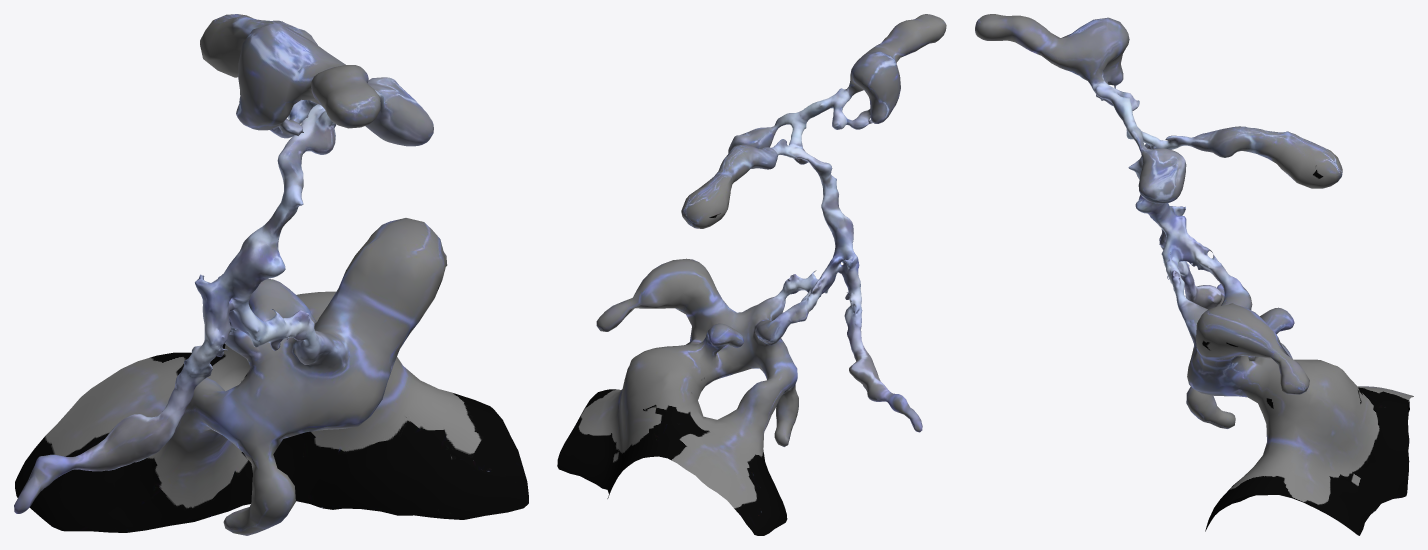
Rendered from lightning_a.glb.
3 renders of one model, left to right at view 1: azimuth 30°, elevation 25°; view 2: azimuth 150°, elevation 25°; view 3: azimuth 270°, elevation 25°, orthographic. The views are drawn at different scales.
Visible parts, largest first — view 1: world; view 2: world; view 3: world.
Part boxes in pixels (<box>): world: <box>14,14,528,535</box>; world: <box>557,14,946,535</box>; world: <box>975,14,1413,535</box>.
Size of the model in its own units: 0.3808 by 0.4522 by 0.4302.
Materials: 1 (1 with a texture image).
